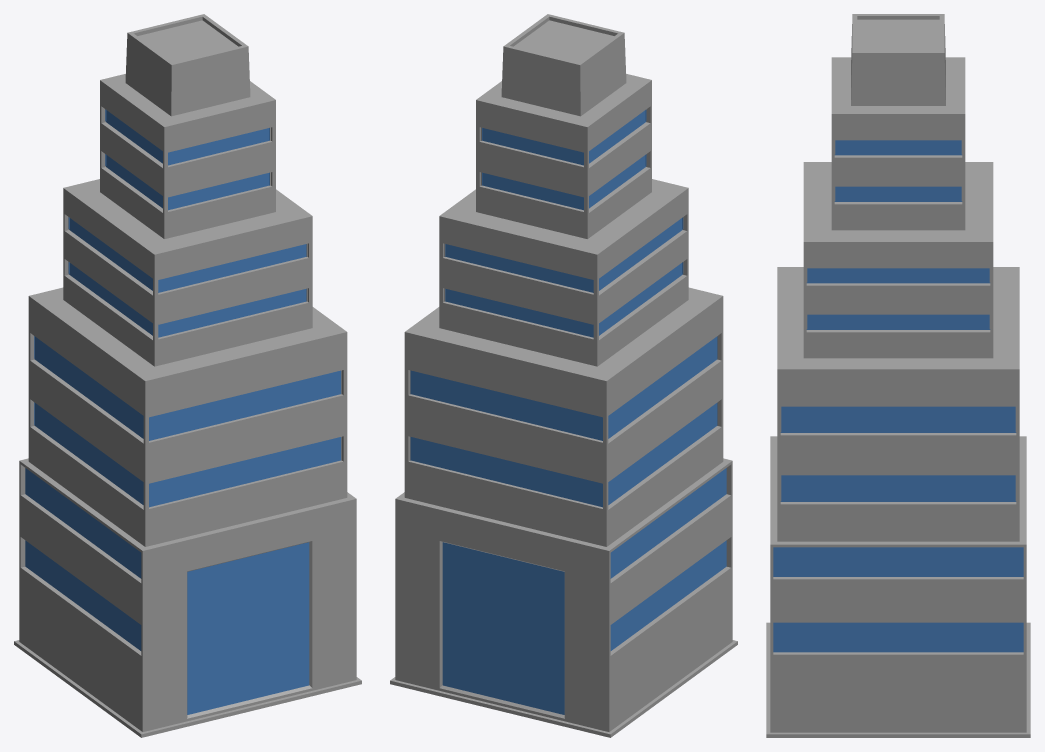
The model's file is BIG BUILDING_BODY.011.glb.
The picture shows the model from 3 angles, left to right: view 1: azimuth 30°, elevation 25°; view 2: azimuth 150°, elevation 25°; view 3: azimuth 270°, elevation 25°; orthographic projection. The views are drawn at different scales.
Visible parts, largest first — view 1: BIG BUILDING_BODY.011_0; view 2: BIG BUILDING_BODY.011_0; view 3: BIG BUILDING_BODY.011_0.
Boxes of the visible parts, bbox=[...] form: BIG BUILDING_BODY.011_0: bbox=[14, 14, 361, 737]; BIG BUILDING_BODY.011_0: bbox=[390, 14, 737, 737]; BIG BUILDING_BODY.011_0: bbox=[766, 14, 1030, 737].
Size of the model in its own units: 2.29 by 6.21 by 2.29.
Materials: 1 (1 with a texture image).
